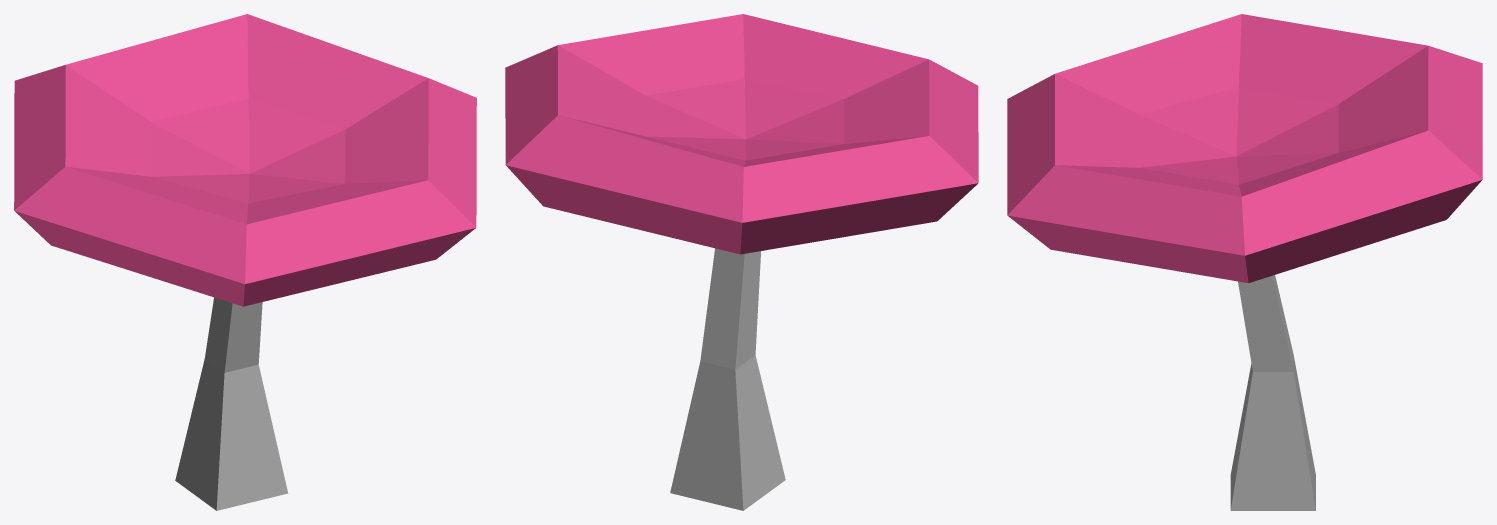
File: Mushroom_Pink_CurvedUV.fbx
The picture shows the model from 3 angles, left to right: view 1: azimuth 30°, elevation 25°; view 2: azimuth 150°, elevation 25°; view 3: azimuth 270°, elevation 25°; orthographic projection. The views are drawn at different scales.
Parts seen in each view (by area): view 1: Cube; view 2: Cube; view 3: Cube.
Part boxes in pixels (x1,y1,x2,y2): Cube: (14,14,476,510); Cube: (505,14,978,510); Cube: (1007,14,1482,510).
Size of the model in its own units: 51.84 by 42.39 by 44.74.
